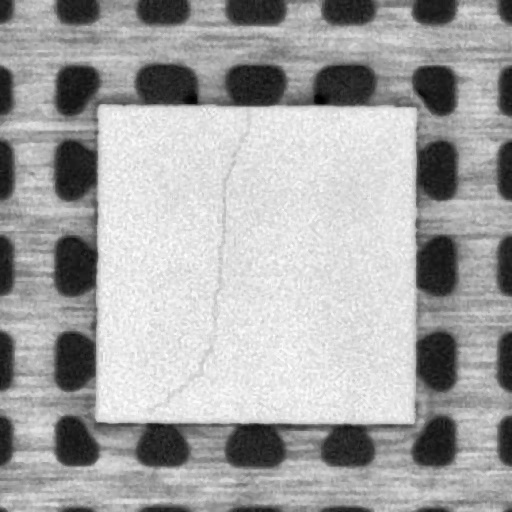DIE_CRACK: (149, 109, 247, 412)
